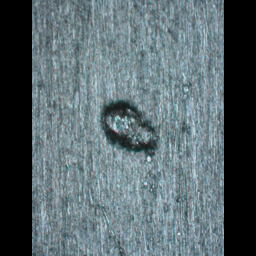d: (93, 101, 164, 161)
